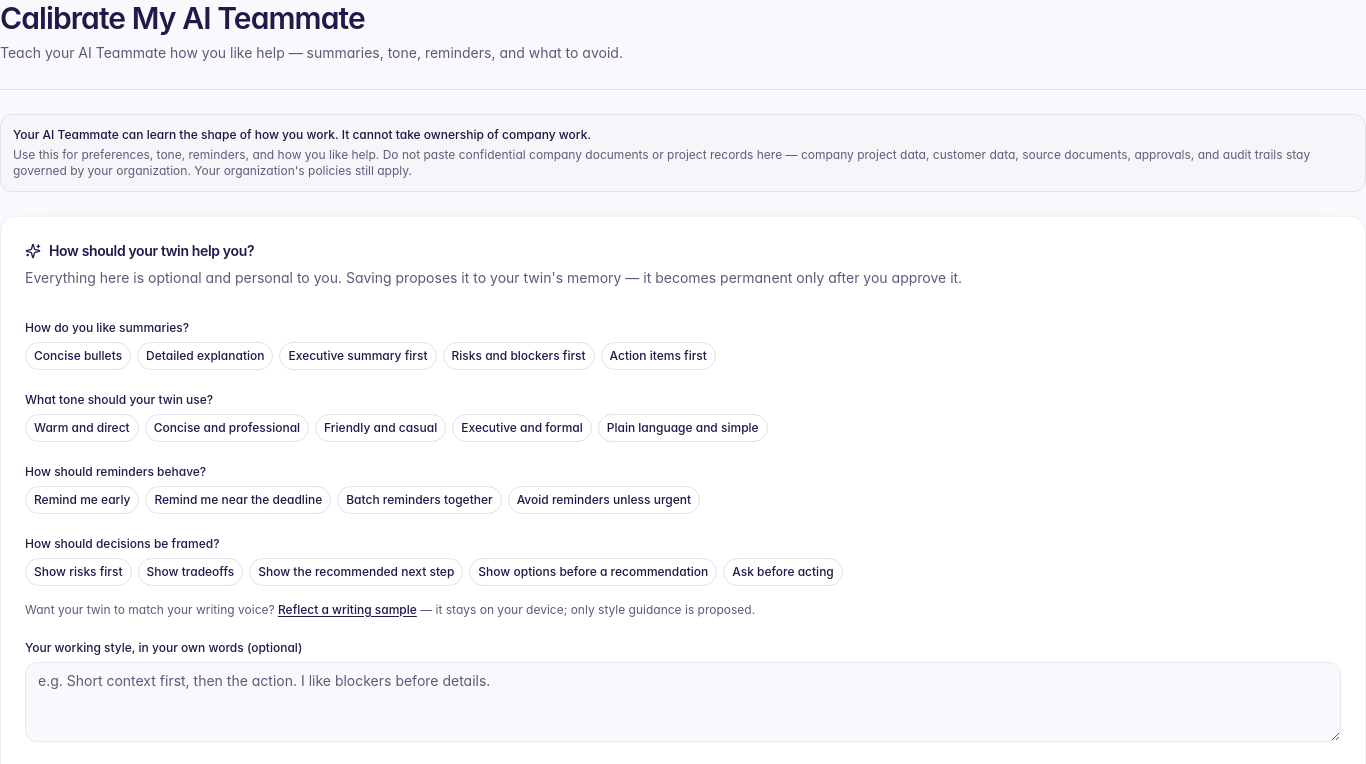
Test: [CS-3] Calibrate My AI Twin — boundary-first, consent-gated › save posts only the chosen fields; done state explains approval + revocation; overclaim sweep
Click the button "Concise bullets": (78, 356) left=25, top=342, right=131, bottom=370
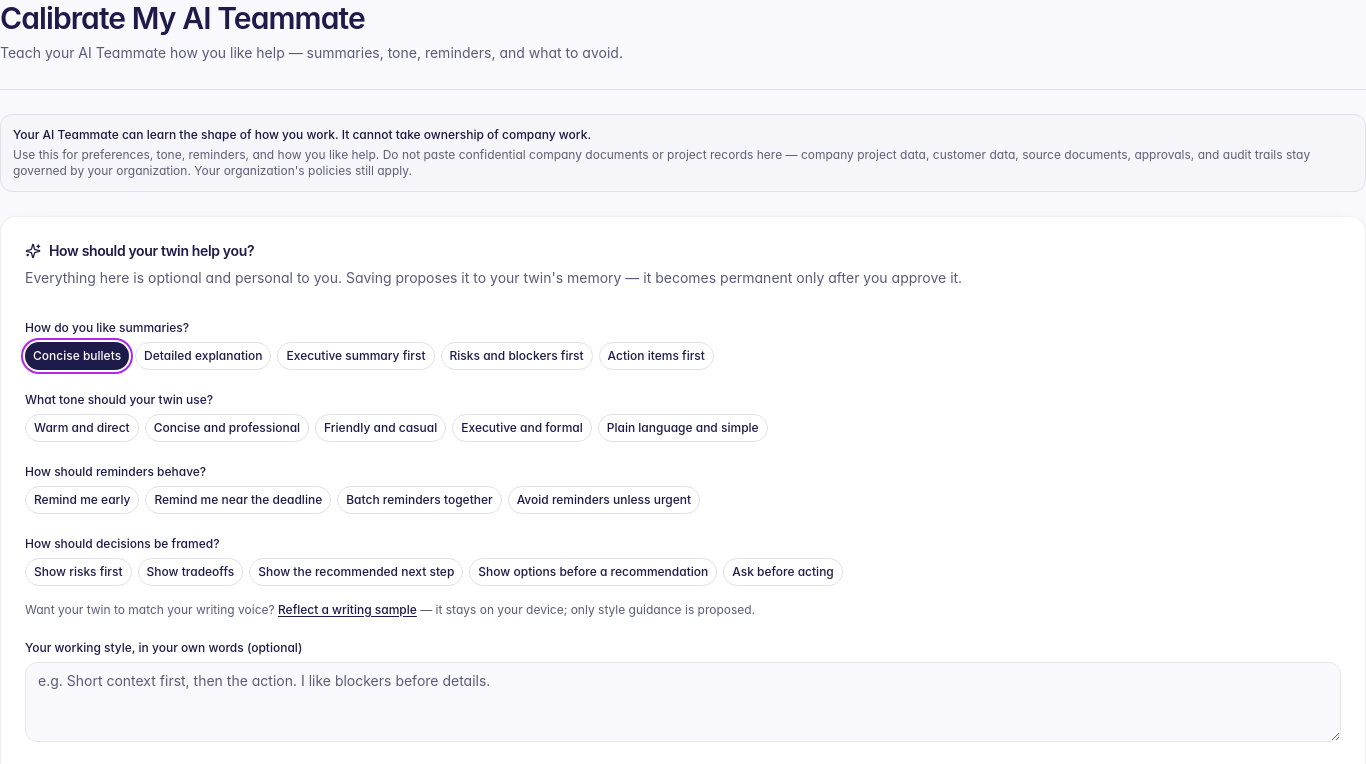
Click the button "Ask before acting": (783, 572) left=723, top=558, right=843, bottom=586
(page scrolled)
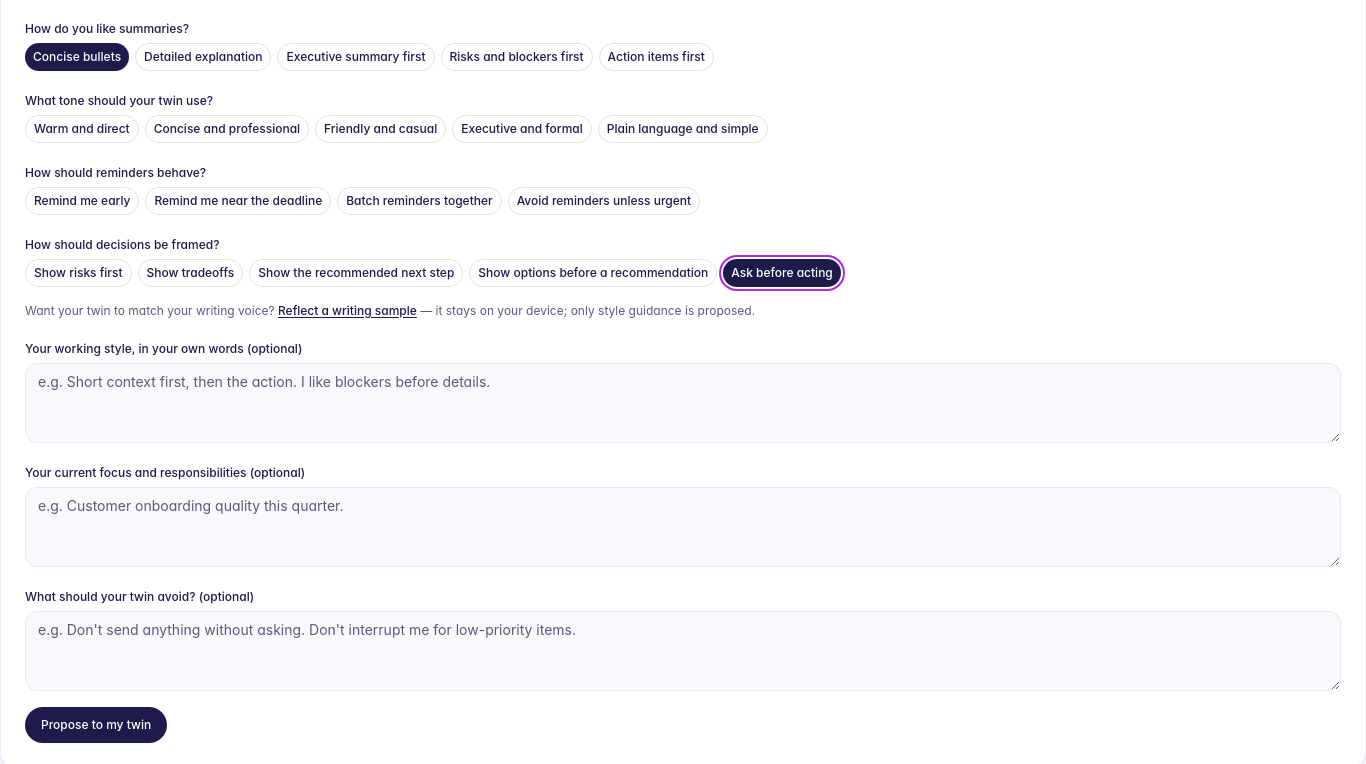
In the text box with test id "calibration-do_not_do_text": (683, 650) left=25, top=610, right=1341, bottom=690, type "Do not send anything without asking.  "
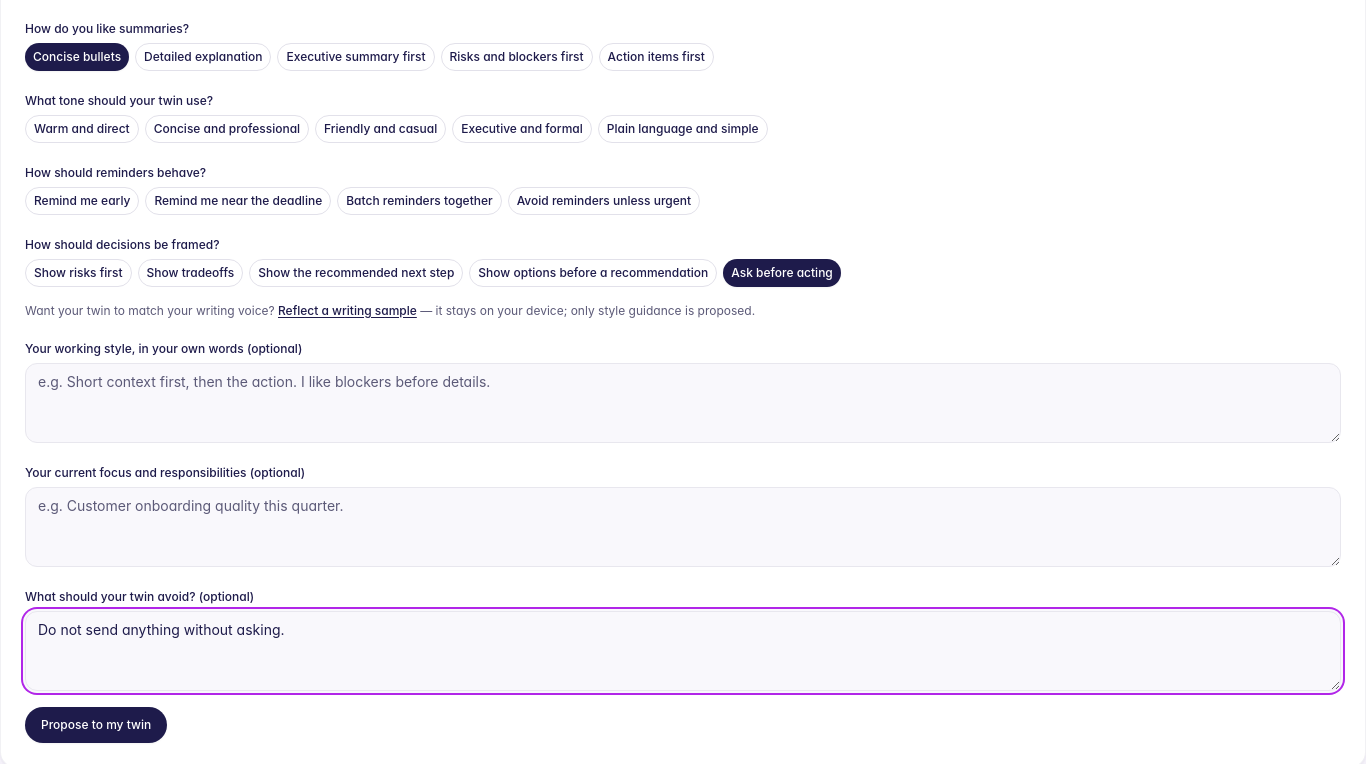
Click the button with test id "calibration-save": (96, 724) left=25, top=706, right=167, bottom=742
(page scrolled)
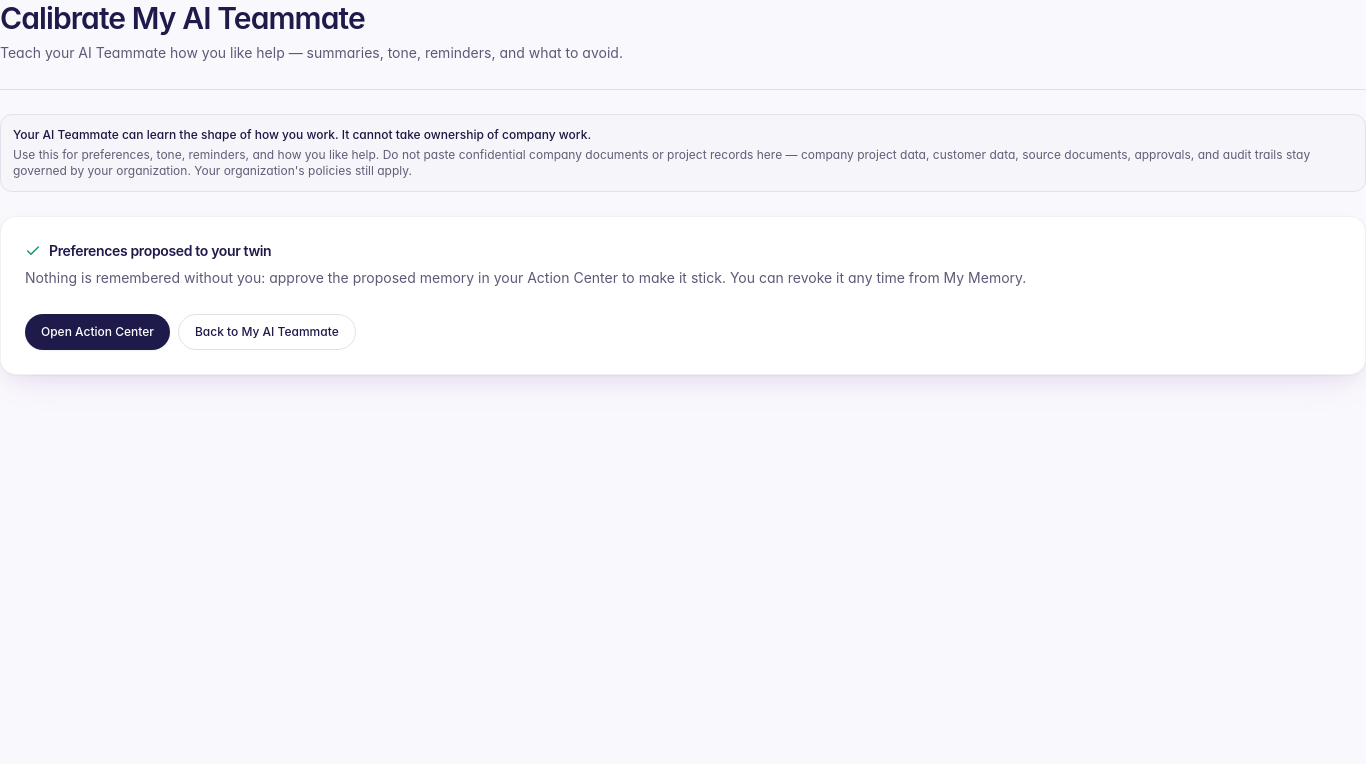
Now the element with test id "calibration-done" is shown, box left=0, top=216, right=1365, bottom=374
Now the text with test id "calibration-done-copy" shows "Nothing is remembered without you", box left=25, top=269, right=1026, bottom=286
Now the text with test id "calibration-done-copy" shows "approve the proposed memory", box left=25, top=269, right=1026, bottom=286
